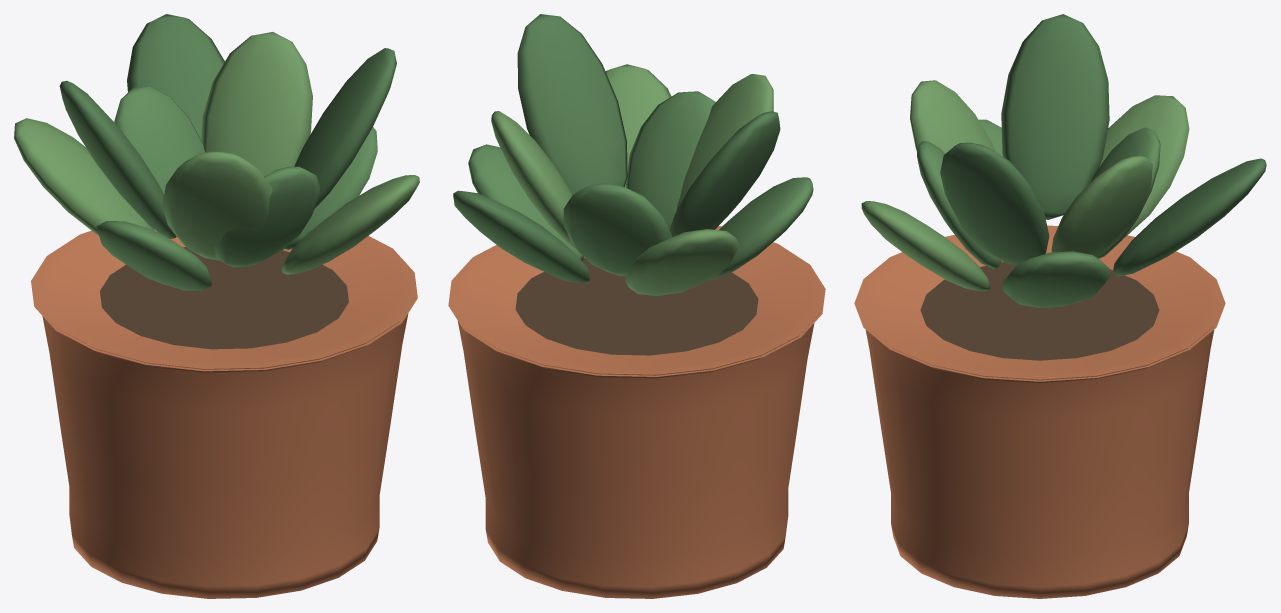
Rendered from plant-leafy.glb.
3 renders of one model, left to right at view 1: azimuth 30°, elevation 25°; view 2: azimuth 150°, elevation 25°; view 3: azimuth 270°, elevation 25°, orthographic. The views are drawn at different scales.
Visible parts, largest first — view 1: plant-leafy_m_c47c56, plant-leafy_m_6f9a63, plant-leafy_m_557d52, plant-leafy_m_5f8a5a, plant-leafy_m_5a4636; view 2: plant-leafy_m_c47c56, plant-leafy_m_557d52, plant-leafy_m_5f8a5a, plant-leafy_m_6f9a63, plant-leafy_m_5a4636; view 3: plant-leafy_m_c47c56, plant-leafy_m_557d52, plant-leafy_m_6f9a63, plant-leafy_m_5a4636, plant-leafy_m_5f8a5a.
Part boxes in pixels (bbox=[...]): plant-leafy_m_c47c56: bbox=[31, 229, 417, 598]; plant-leafy_m_6f9a63: bbox=[14, 32, 419, 274]; plant-leafy_m_557d52: bbox=[59, 14, 396, 238]; plant-leafy_m_5f8a5a: bbox=[97, 86, 377, 290]; plant-leafy_m_5a4636: bbox=[100, 247, 348, 349]; plant-leafy_m_c47c56: bbox=[448, 226, 825, 598]; plant-leafy_m_557d52: bbox=[453, 14, 780, 283]; plant-leafy_m_5f8a5a: bbox=[468, 91, 813, 279]; plant-leafy_m_6f9a63: bbox=[491, 64, 773, 295]; plant-leafy_m_5a4636: bbox=[515, 258, 758, 355]; plant-leafy_m_c47c56: bbox=[854, 225, 1225, 598]; plant-leafy_m_557d52: bbox=[940, 14, 1266, 276]; plant-leafy_m_6f9a63: bbox=[861, 80, 1189, 291]; plant-leafy_m_5a4636: bbox=[920, 262, 1159, 360]; plant-leafy_m_5f8a5a: bbox=[917, 119, 1160, 307].
Bounding box in the file's own units: 0.5766 × 0.7923 × 0.6404.
